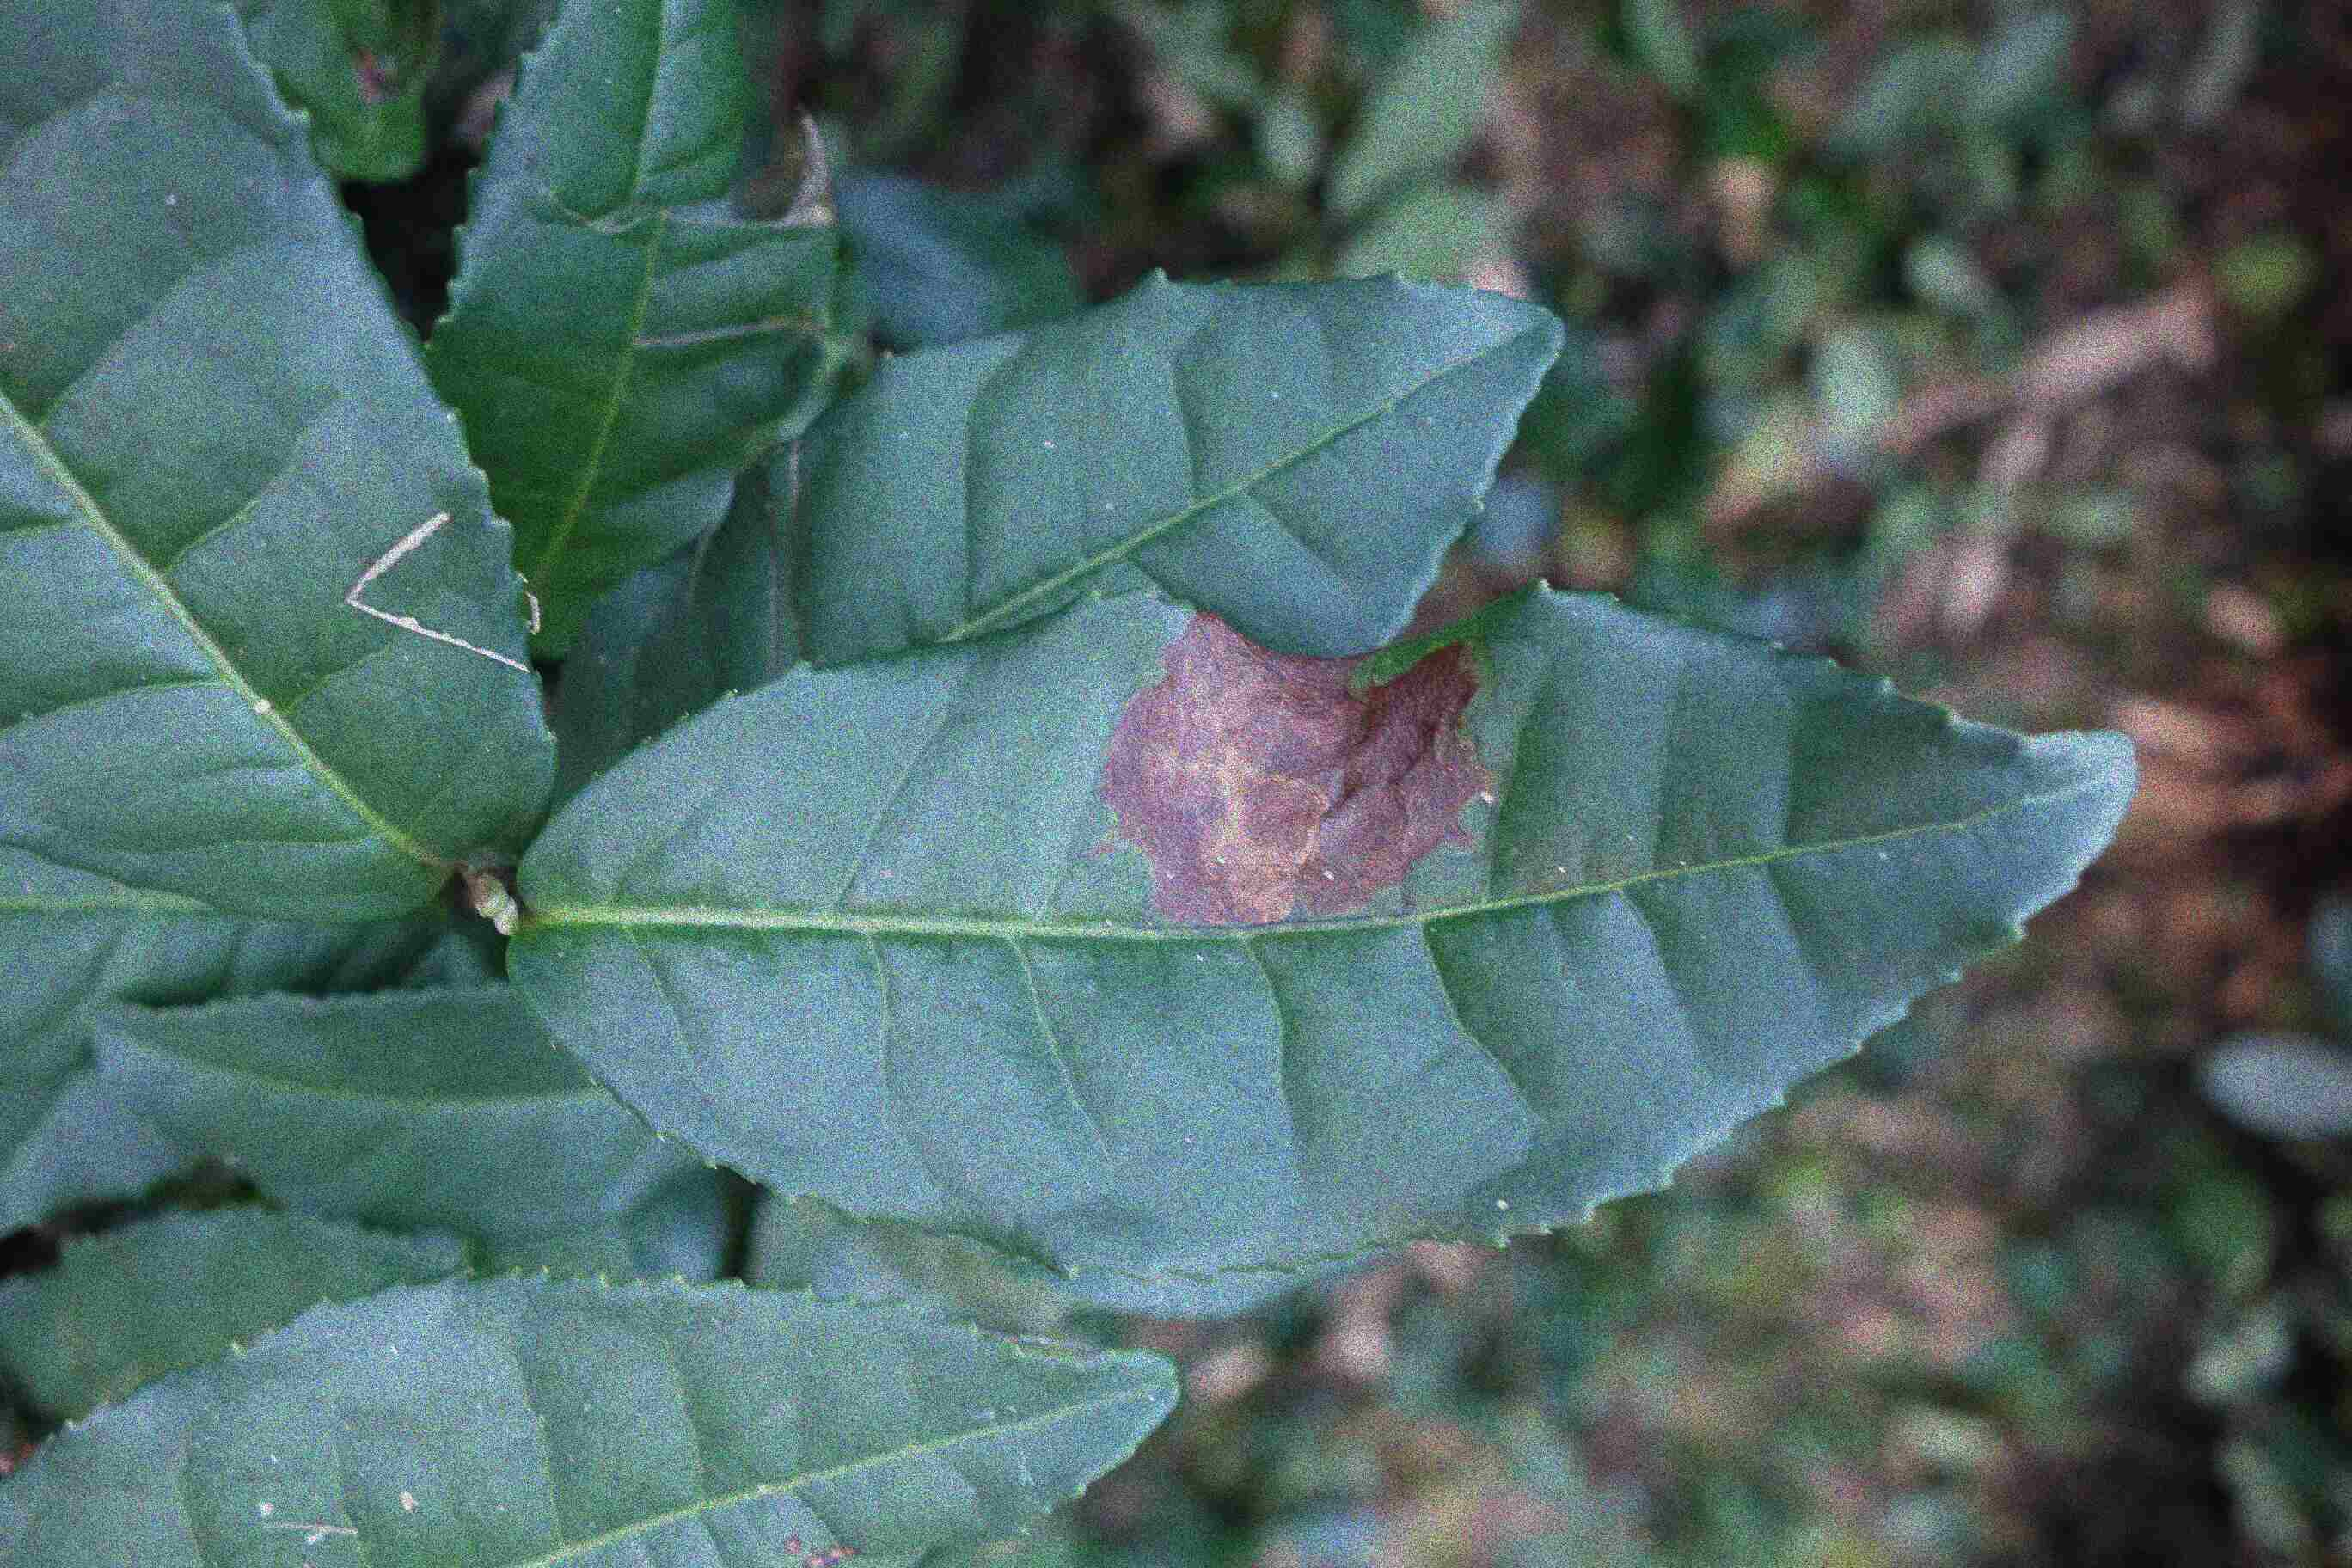tanju_high: (516, 579, 2144, 1288)
